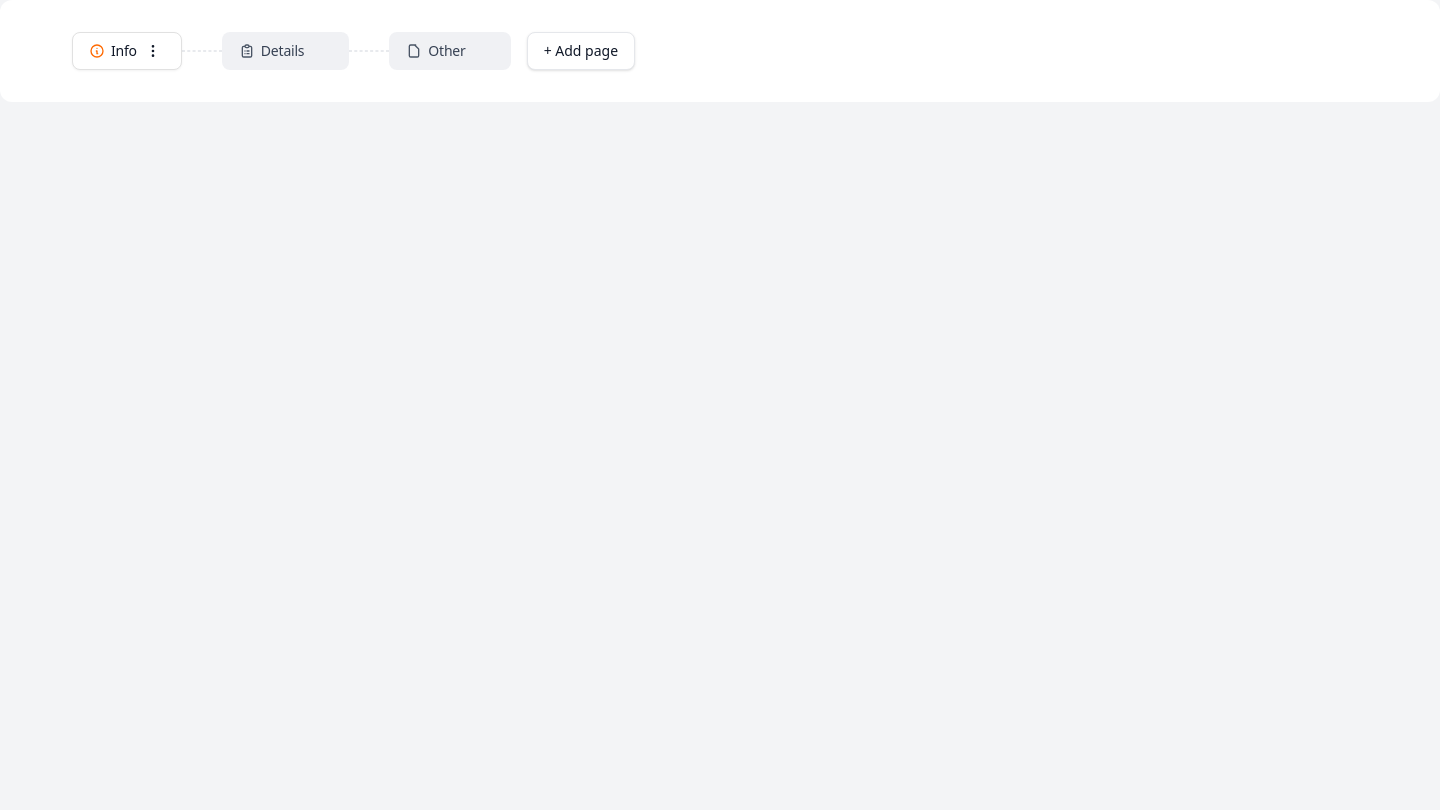
PageNavigationBar › opens the new-page modal when you click + Add page
Click the button "+ Add page". click: (581, 51)
box: [527,32,635,70]
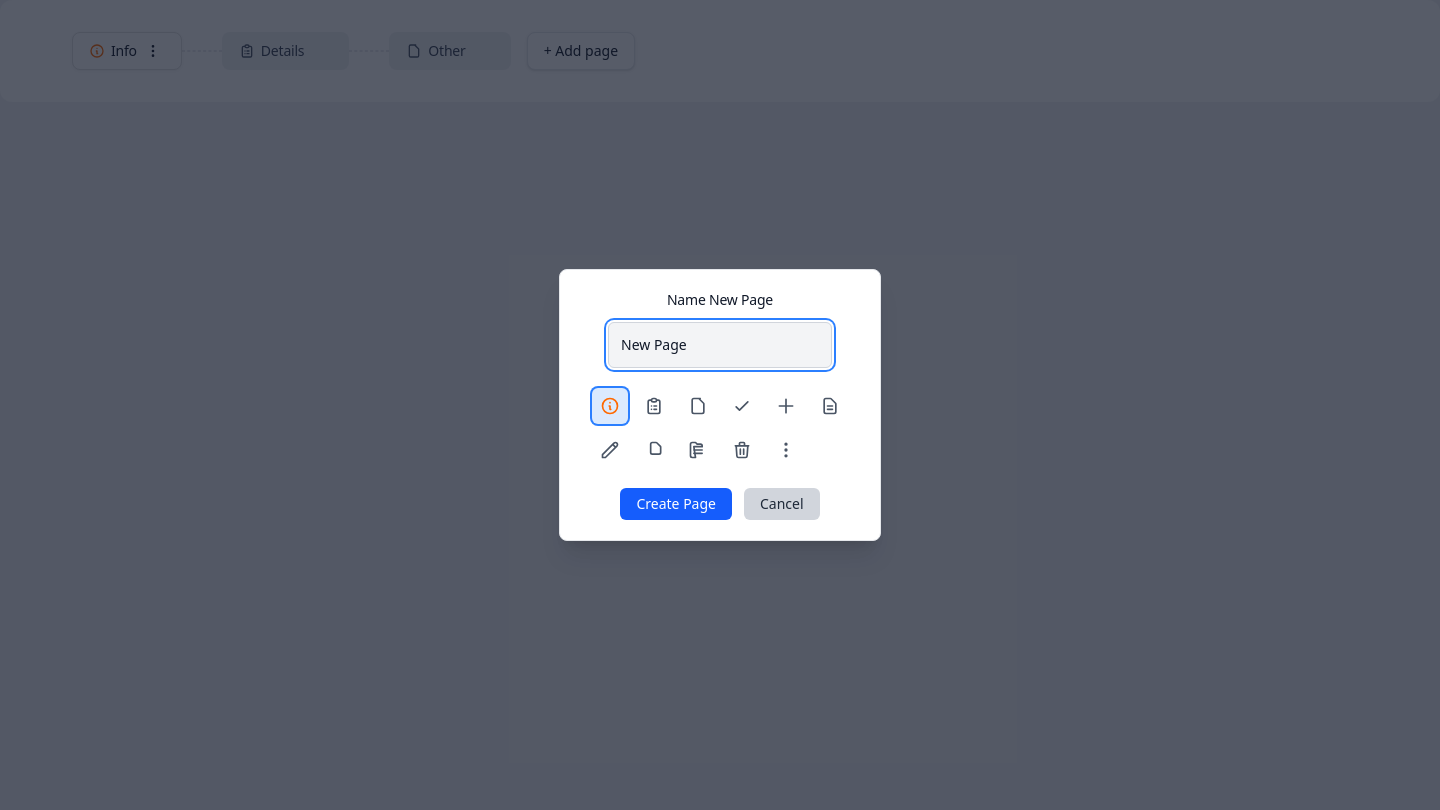
Check: the dialog is shown
Check: the field named "New page name" holds "New Page", box [608,322,832,368]
